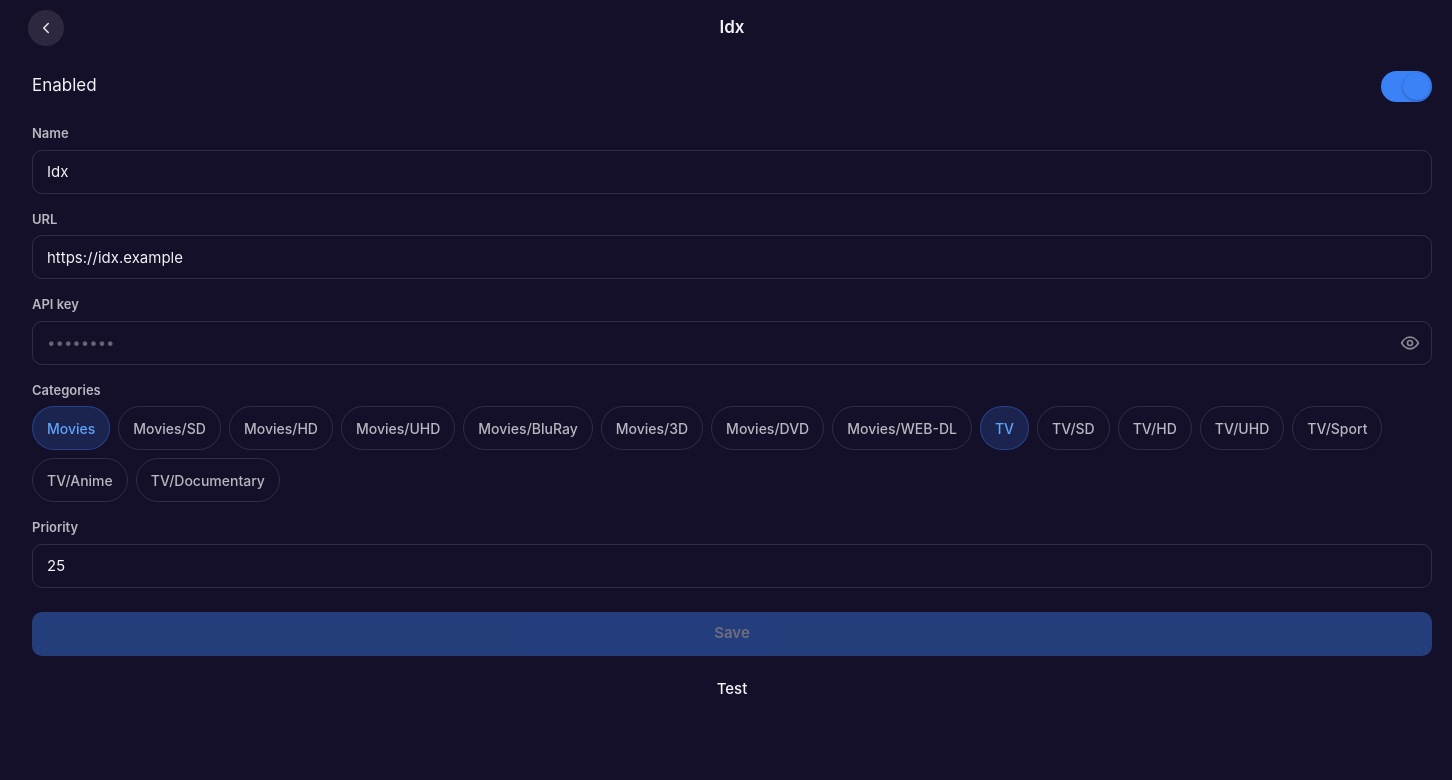
it: Tracker form: edit and secrets › phone: pushed page, Save first, then Test, Delete as a red row at the bottom
The image size is (1452, 780).
Expected: the heading "Idx" is shown, [720, 17, 744, 37]
Click the button named "Back". click: {"x": 46, "y": 28}
box: [24, 6, 68, 50]
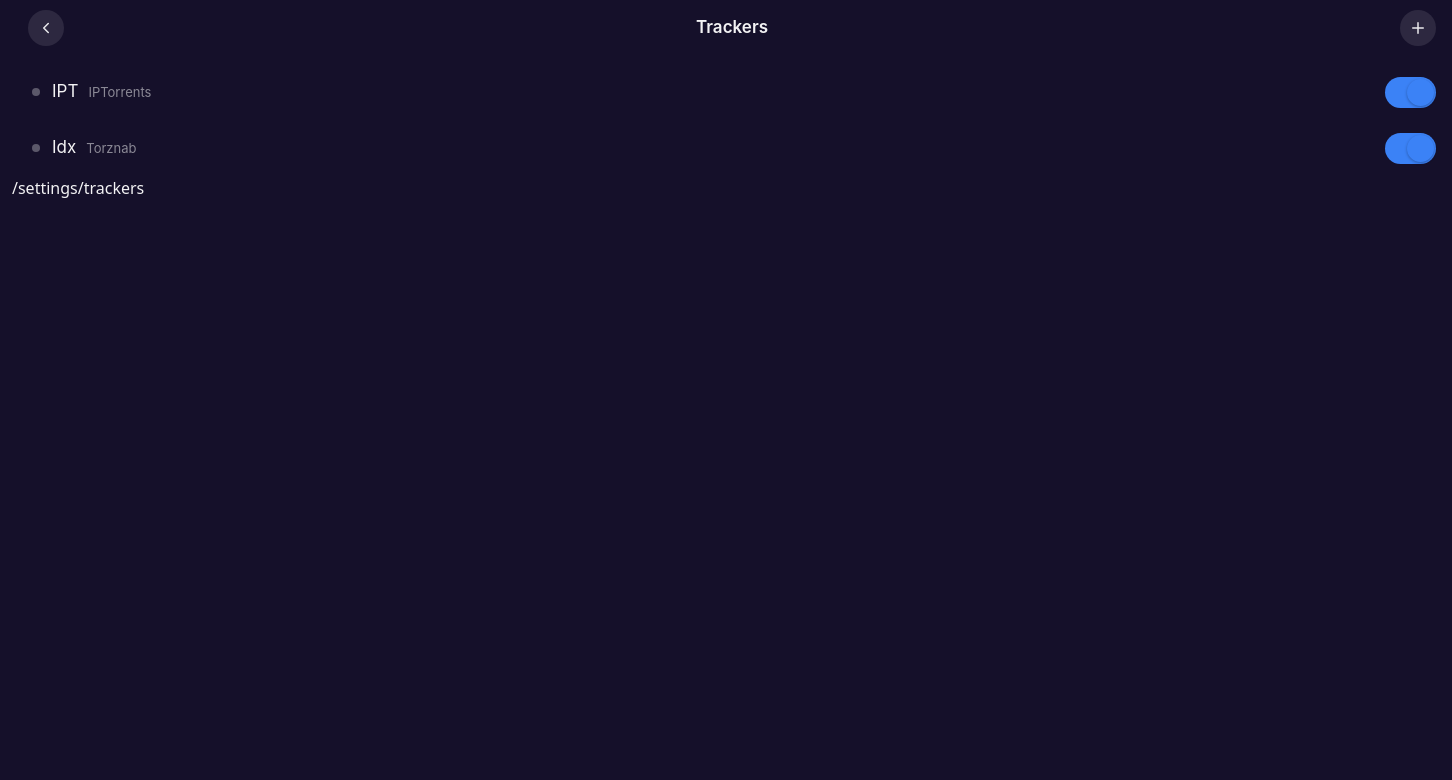
Expected: the text with test id "where" reads "/settings/trackers", [12, 177, 144, 199]
